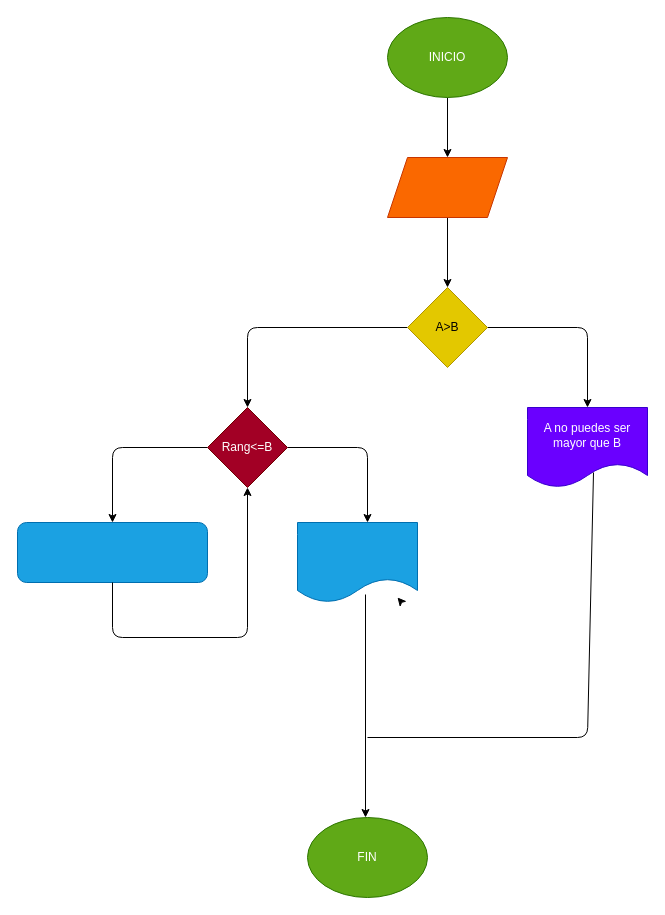
Image size: 665x915. Some labels were removed from this diagram. The shapes that lost their labels are listed below. From the top down, each one's centre as x and y in pixels, then its label:
the point at 112,552: cant_num=cant-num+1 rango=rango+1
the point at 357,562: rango
